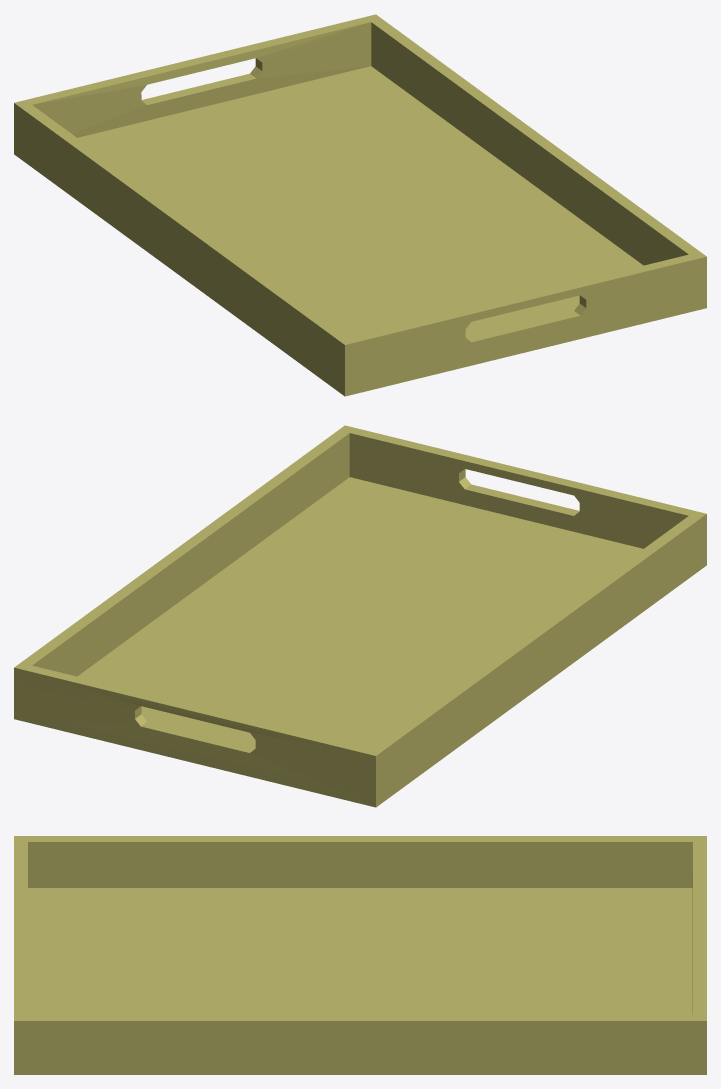
Rendered from LivingRoom_Tray.FBX.
3 views of the same model, one above another, from view 1: azimuth 30°, elevation 25°; view 2: azimuth 150°, elevation 25°; view 3: azimuth 270°, elevation 25° (orthographic). The views are drawn at different scales.
Visible parts, largest first — view 1: LivingRoom_Tray; view 2: LivingRoom_Tray; view 3: LivingRoom_Tray.
Boxes of the visible parts, <box> form: LivingRoom_Tray: <box>14,14,706,396</box>; LivingRoom_Tray: <box>14,425,706,807</box>; LivingRoom_Tray: <box>14,836,706,1074</box>.
Bounding box in the file's own units: 0.3155 × 0.043 × 0.4995.
